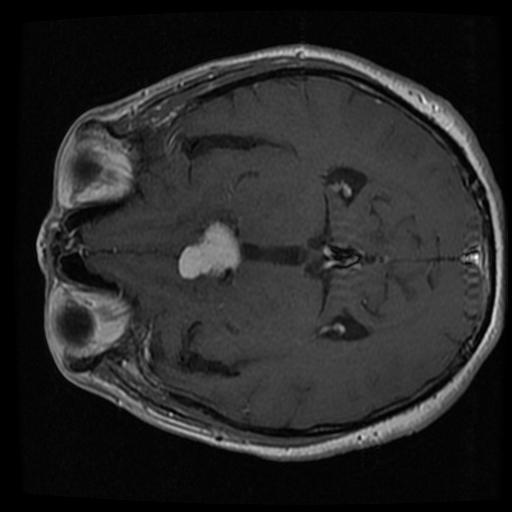meningioma: (178, 221, 239, 279)
